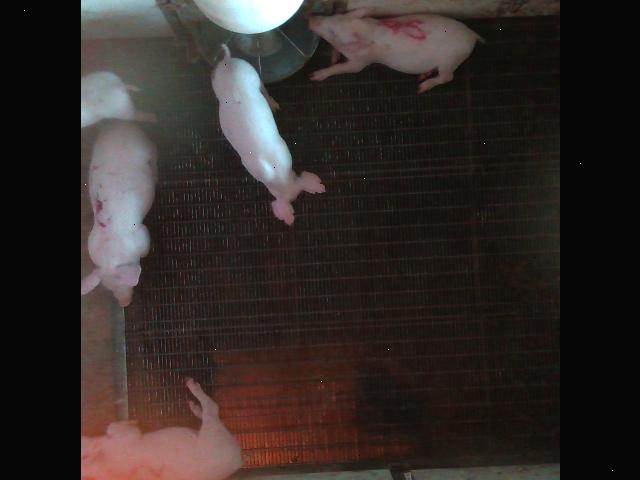pig-2: (81, 378, 242, 480)
pig-3: (81, 122, 156, 306)
pig-5: (309, 9, 482, 94)
